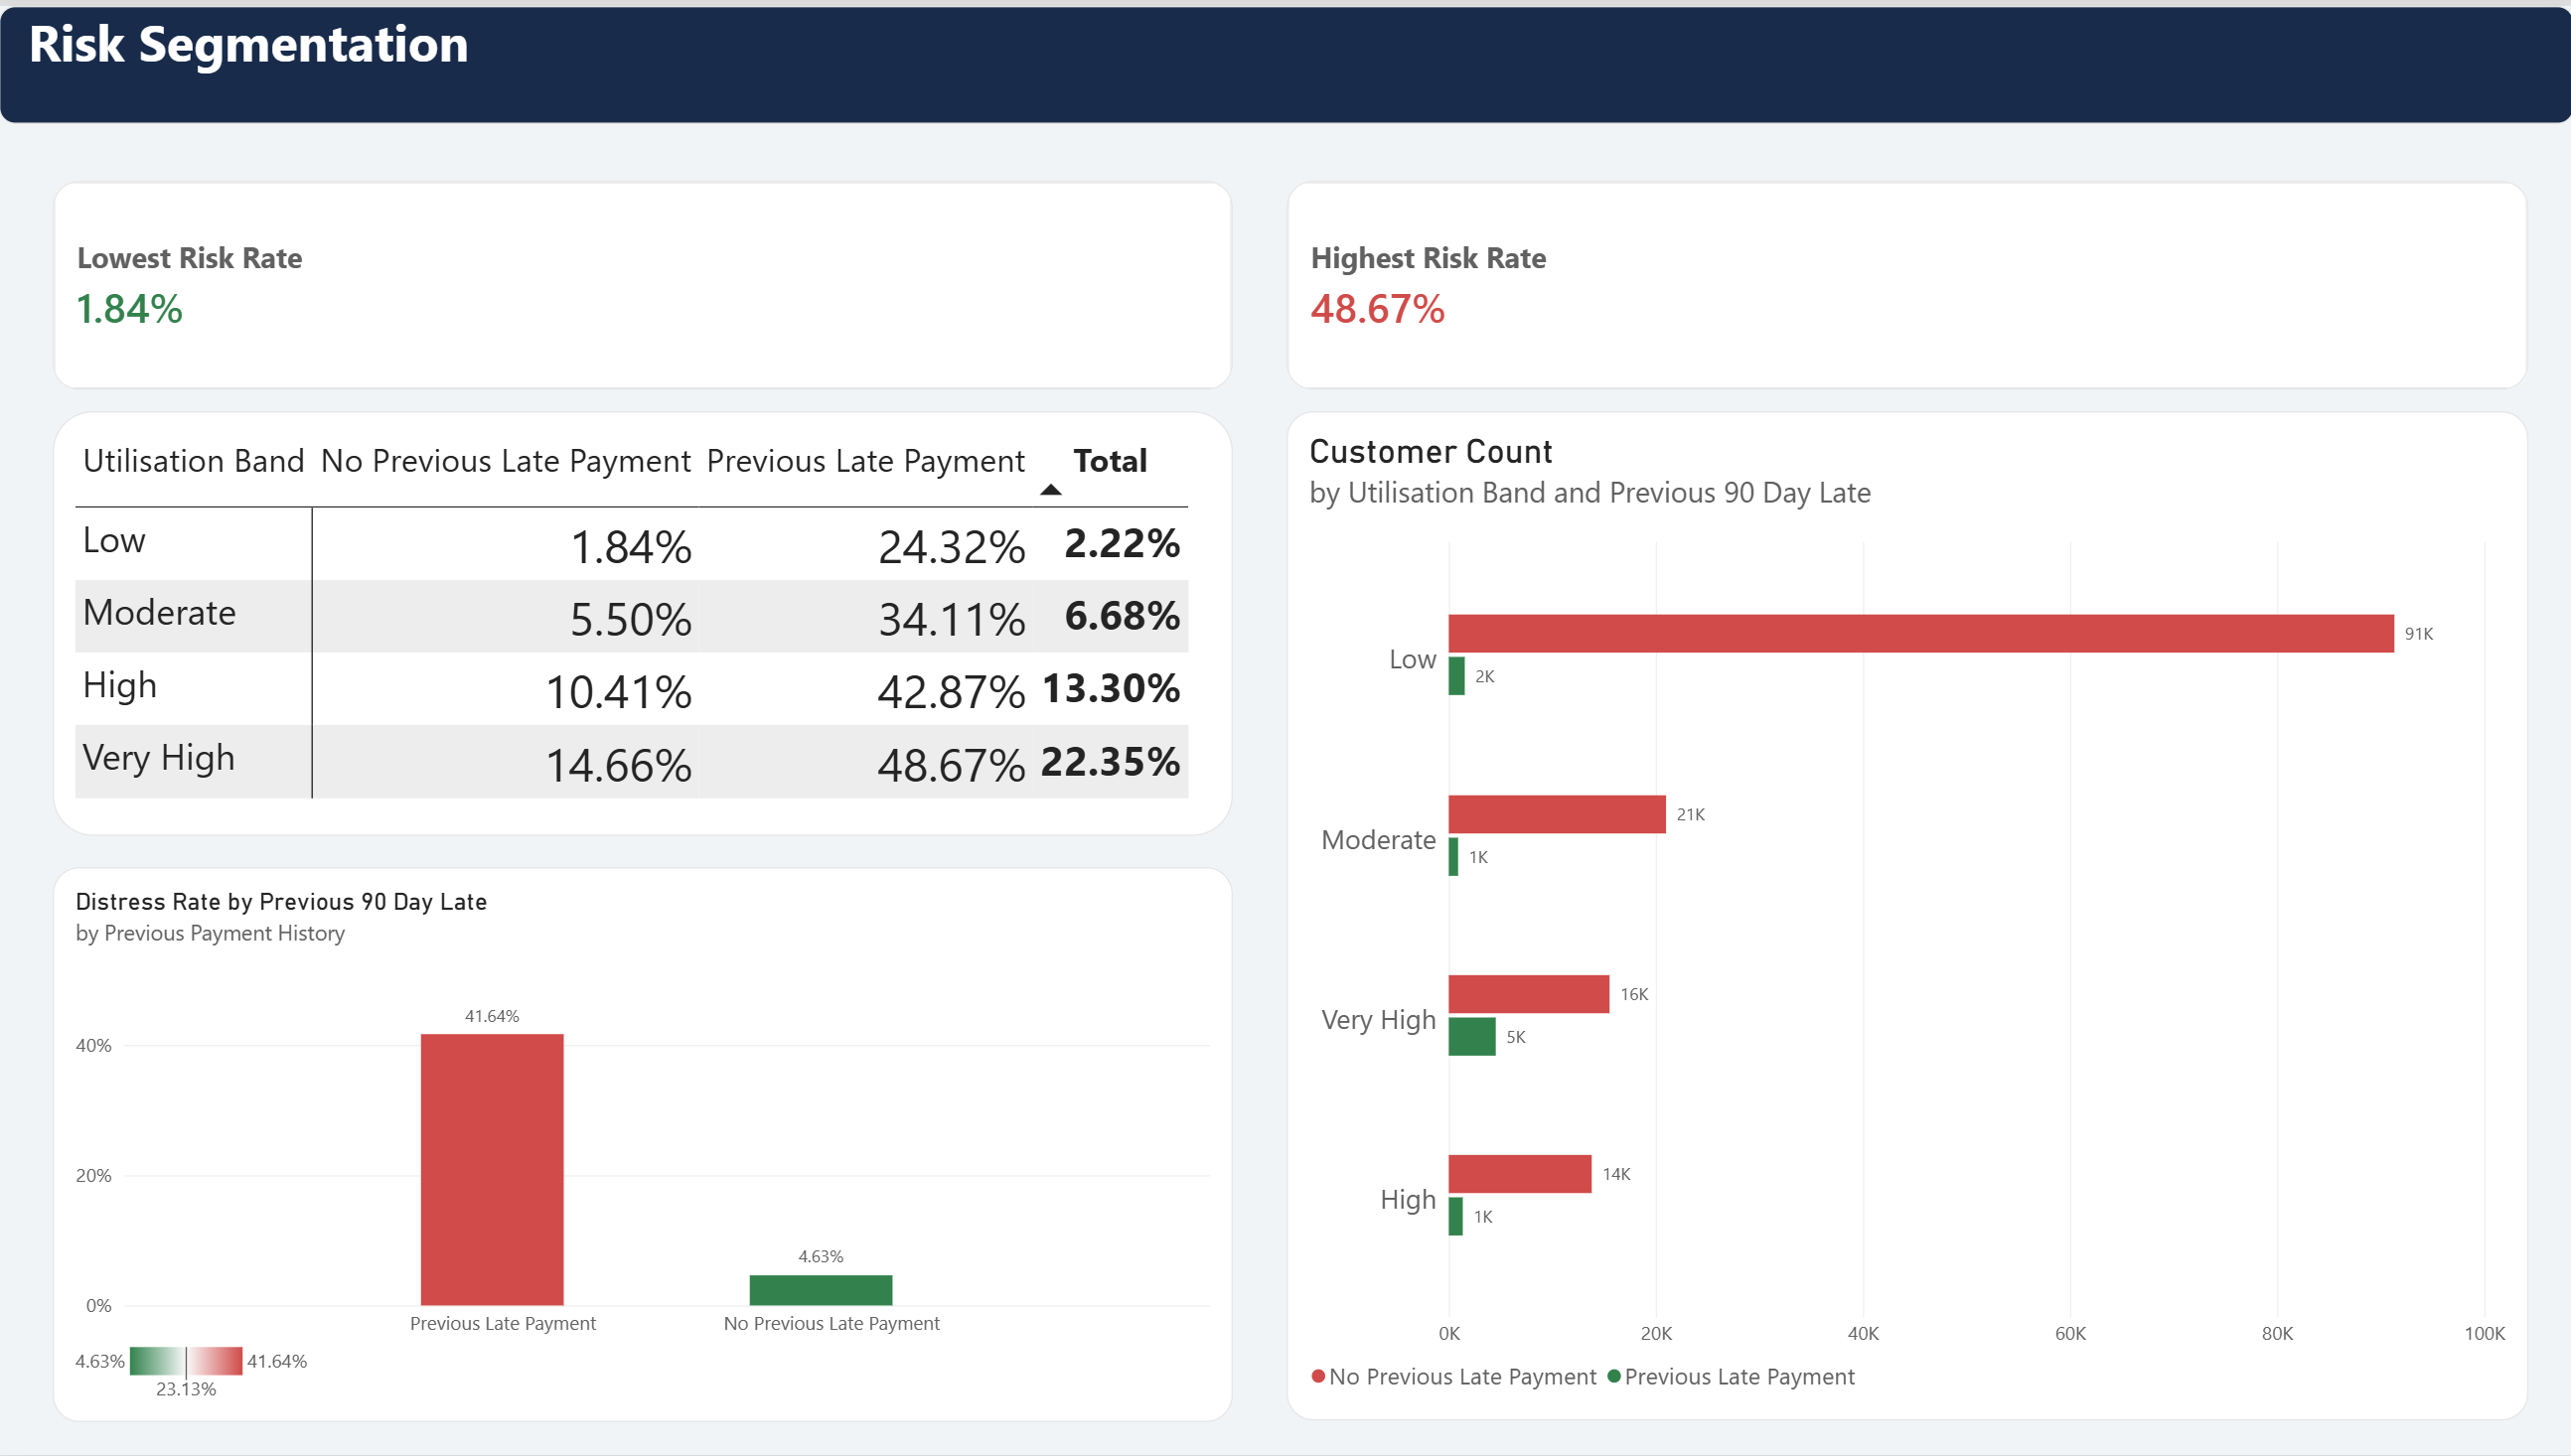

What the dashboard file says about the page in this screenshot:
{"tool":"powerbi","page":{"name":"Risk Segmentation","canvas":[1920,1080],"ordinal":1},"visuals":[{"type":"pivotTable","title":"Distress Rate by Credit Utilisation and Payment History","fields":{"Columns":["credit_risk_cleaned.Previous 90 Day Late"],"Rows":["credit_risk_cleaned.Utilisation Band"],"Values":["credit_risk_cleaned.Distress Rate"]},"box":[40,302,880,316],"z":0},{"type":"clusteredColumnChart","fields":{"Category":["credit_risk_cleaned.Previous 90 Day Late"],"Y":["credit_risk_cleaned.Distress Rate"]},"box":[40,642,880,414],"z":1000},{"type":"clusteredBarChart","fields":{"Category":["credit_risk_cleaned.Utilisation Band"],"Series":["credit_risk_cleaned.Previous 90 Day Late"],"Y":["credit_risk_cleaned.Customer Count"]},"box":[960,302,926,752],"z":2000},{"type":"cardVisual","fields":{"Data":["credit_risk_cleaned.Lowest Risk Rate"]},"box":[40,130,880,156],"z":3000},{"type":"cardVisual","fields":{"Data":["credit_risk_cleaned.Highest Risk Rate"]},"box":[960,130,926,156],"z":4000},{"type":"textbox","box":[0,0,1920,88],"z":4001}]}

Visuals, with their boxes in screenshot pixels (x1, y1, x2, y2), scaled from the page's 1920x1080 canvas onto the 2571x1456 screenshot:
"Distress Rate by Credit Utilisation and Payment History" pivotTable: box(54, 407, 1232, 833)
clusteredColumnChart - credit_risk_cleaned.Previous 90 Day Late x credit_risk_cleaned.Distress Rate: box(54, 865, 1232, 1423)
clusteredBarChart - credit_risk_cleaned.Utilisation Band x credit_risk_cleaned.Previous 90 Day Late: box(1285, 407, 2525, 1421)
cardVisual - credit_risk_cleaned.Lowest Risk Rate: box(54, 175, 1232, 385)
cardVisual - credit_risk_cleaned.Highest Risk Rate: box(1285, 175, 2525, 385)
textbox: box(0, 0, 2570, 118)
